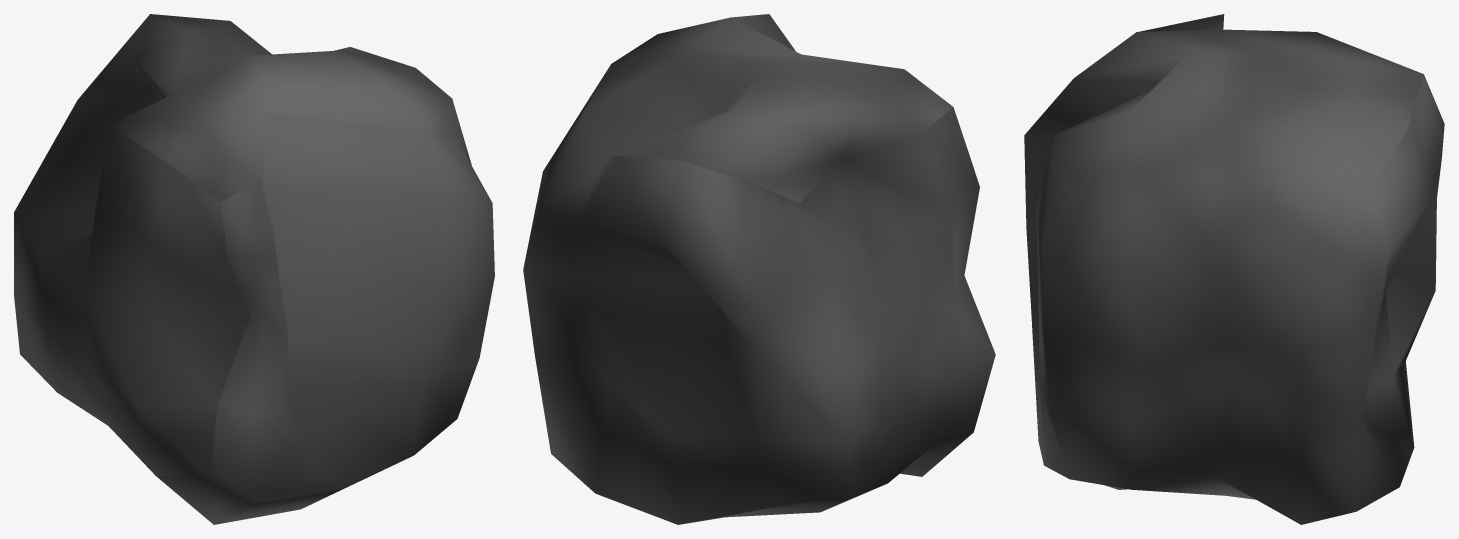
Rendered from GAMEJAMPUFFER - ForeGround Rock 4.fbx.
3 renders of one model, left to right at view 1: azimuth 30°, elevation 25°; view 2: azimuth 150°, elevation 25°; view 3: azimuth 270°, elevation 25°, orthographic. The views are drawn at different scales.
Parts seen in each view (by area): view 1: Cube.001; view 2: Cube.001; view 3: Cube.001.
Part boxes in pixels (<box>): Cube.001: <box>14,14,494,524</box>; Cube.001: <box>523,14,995,524</box>; Cube.001: <box>1024,14,1444,524</box>.
Size of the model in its own units: 176 by 203 by 176.
Materials: 1 (1 with a texture image).
